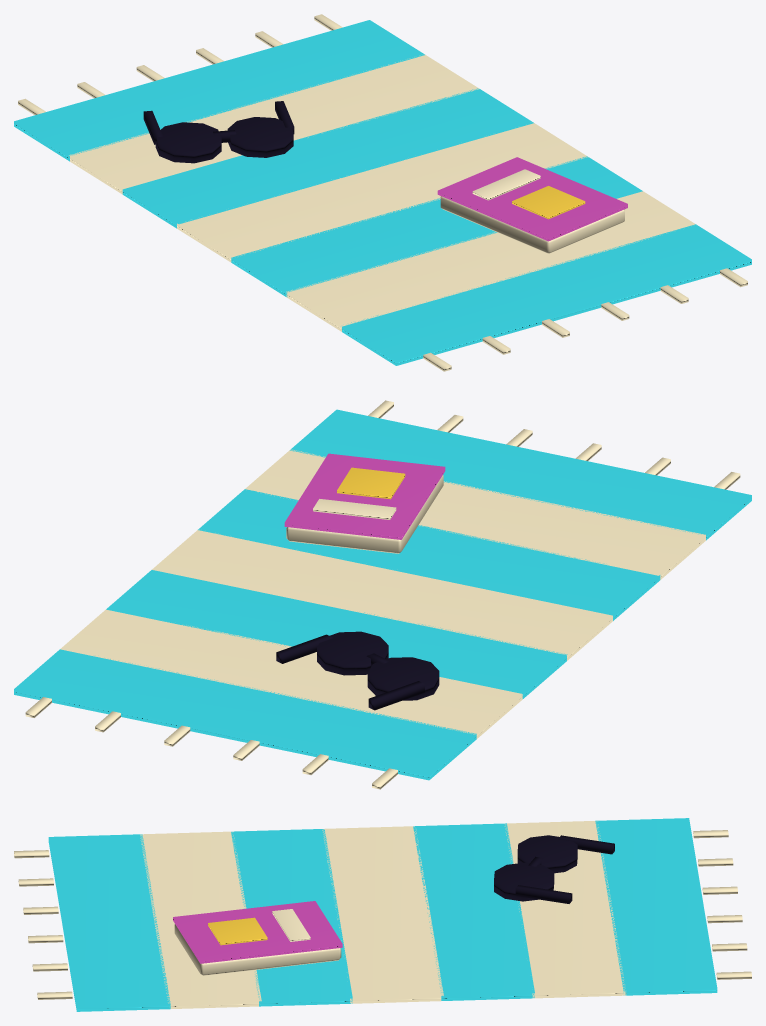
File: beach_towel.glb
3 renders of one model, top to bottom at view 1: azimuth 30°, elevation 25°; view 2: azimuth 150°, elevation 25°; view 3: azimuth 270°, elevation 25°, orthographic. The views are drawn at different scales.
Visible parts, largest first — view 1: Towel; view 2: Towel; view 3: Towel.
Part boxes in pixels (box(x1,y1,x2,y2)): Towel: box(14, 14, 751, 371); Towel: box(14, 400, 751, 789); Towel: box(14, 818, 751, 1011).
Bounding box in the file's own units: 0.643 × 0.044 × 1.06.
